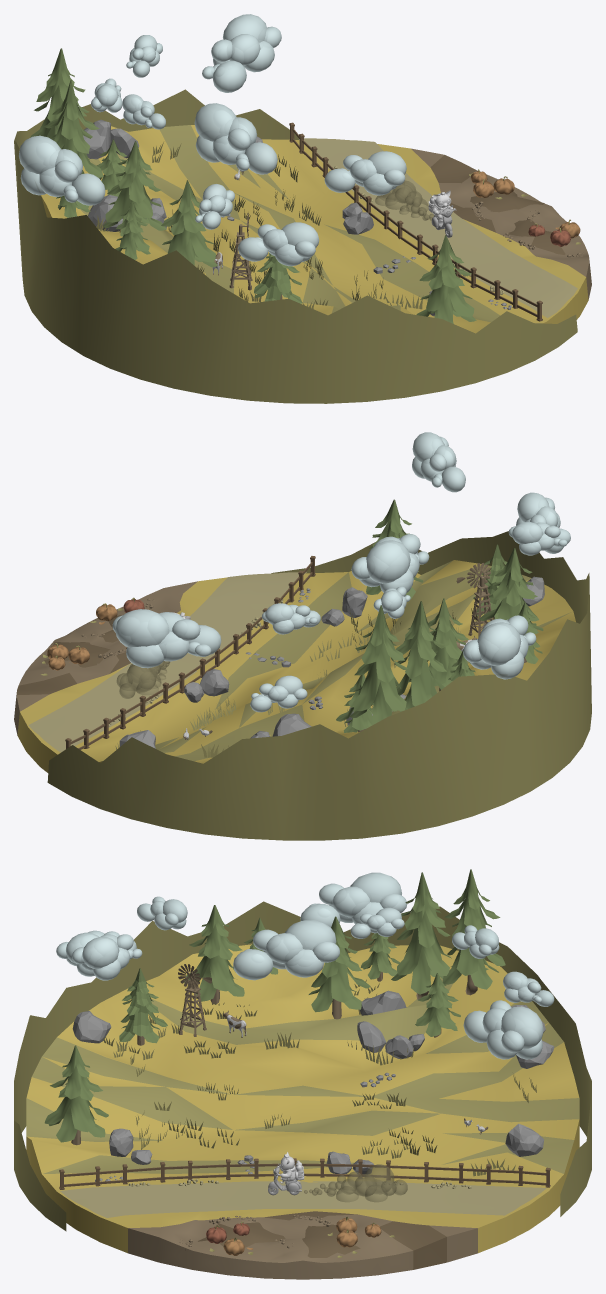
Rendered from MilkDelivery_SCENE.fbx.
3 views of the same model, one above another, from view 1: azimuth 30°, elevation 25°; view 2: azimuth 150°, elevation 25°; view 3: azimuth 270°, elevation 25° (orthographic).
Parts seen in each view (by area): view 1: polySurface1353, polySurface1352, pPlane4, pCube74, pCube72, pCube116, pCube115, polySurface1306, pCube73, polySurface645, polySurface1305, polySurface652 (+19 smaller); view 2: polySurface1353, polySurface1352, pPlane4, pCube116, polySurface1323, pCube74, pCube72, polySurface652, pCube115, polySurface946, polySurface1305, polySurface645 (+17 smaller); view 3: polySurface1352, polySurface1353, pPlane4, pCube72, polySurface652, pCube116, pCube74, polySurface1306, polySurface946, polySurface1323, polySurface1305, polySurface645 (+22 smaller).
Part boxes in pixels (x1,y1,x2,y2): polySurface1353: (14,89,577,403); polySurface1352: (41,125,591,333); pPlane4: (304,138,577,317); pCube74: (19,135,105,205); pCube72: (194,103,277,174); pCube116: (202,14,281,92); pCube115: (324,151,406,195); polySurface1306: (416,235,476,323); pCube73: (238,222,319,266); polySurface645: (103,141,166,236); polySurface1305: (161,180,217,267); polySurface652: (43,80,103,177); polySurface1353: (47,531,591,840); polySurface1352: (14,560,575,772); pPlane4: (28,572,306,752); pCube116: (112,609,221,668); polySurface1323: (349,605,407,724); pCube74: (463,615,536,679); pCube72: (351,534,429,592); polySurface652: (394,601,446,708); pCube115: (412,432,465,492); polySurface946: (139,556,315,716); polySurface1305: (479,548,543,640); polySurface645: (427,598,474,691); polySurface1352: (26,944,579,1279); polySurface1353: (14,901,591,1231); pPlane4: (60,1181,546,1217); pCube72: (233,919,339,980); polySurface652: (391,872,451,999); pCube116: (463,1000,543,1059); pCube74: (300,872,407,927); polySurface1306: (44,1045,108,1145); polySurface946: (59,1158,428,1189); polySurface1323: (442,869,505,995); polySurface1305: (184,905,244,1004); polySurface645: (308,916,370,1019).
Size of the model in its own units: 31.87 by 13.05 by 32.29.
